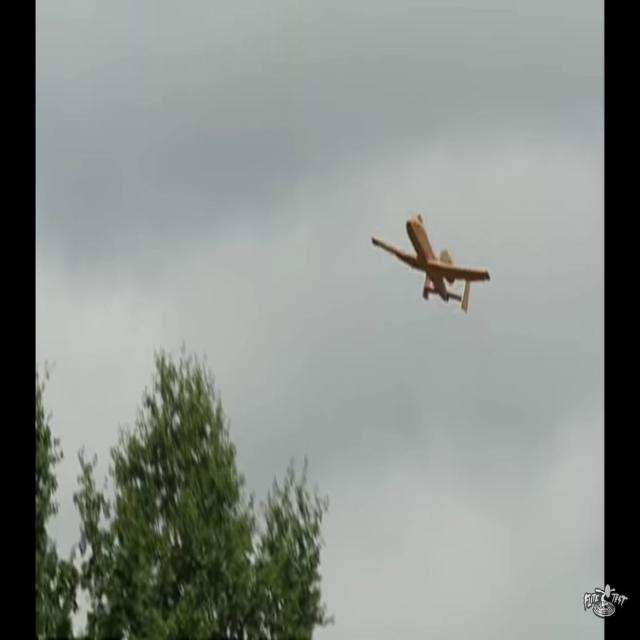iha: (402, 237, 459, 278)
